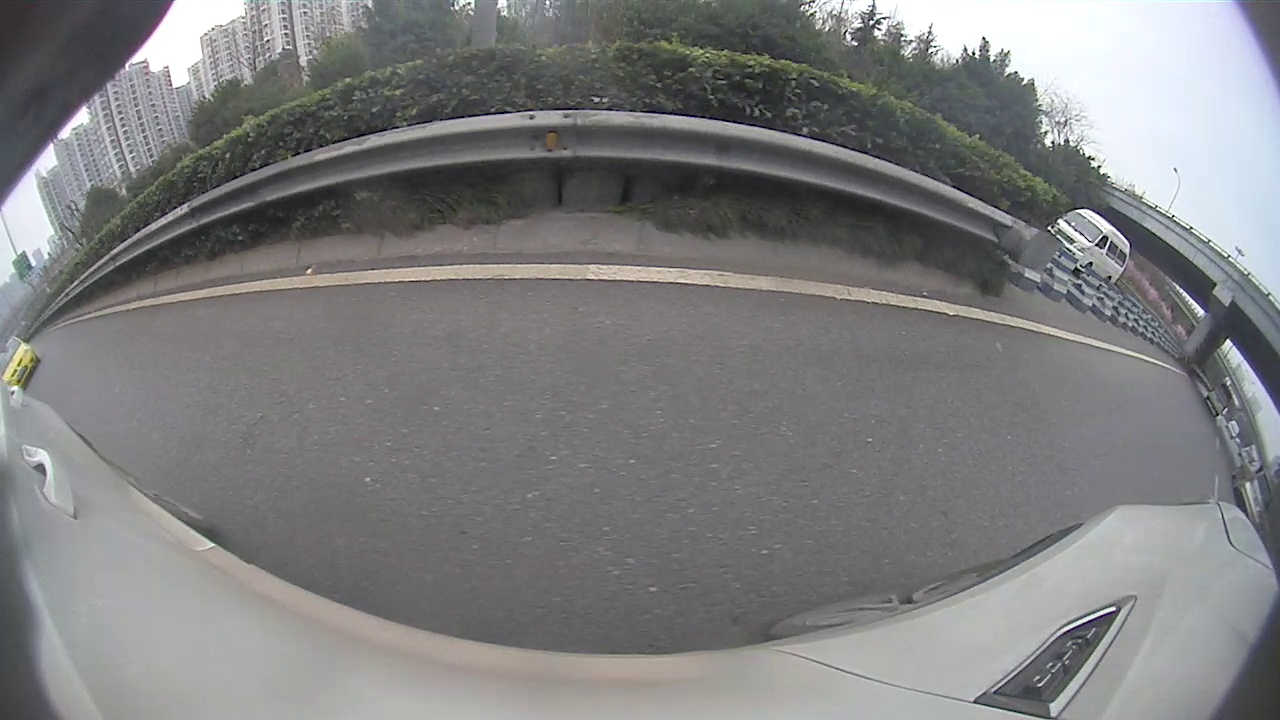car: (1048, 205, 1133, 282), (1230, 465, 1273, 528), (0, 338, 40, 391)
